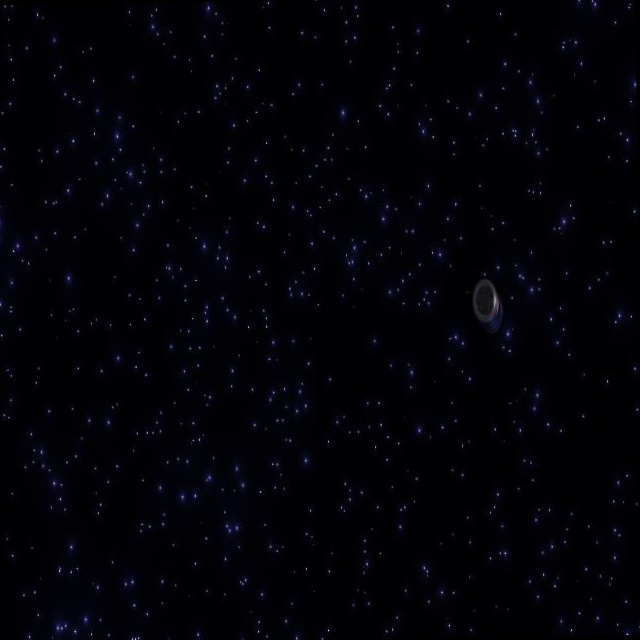large_debris: (469, 279, 508, 345)
